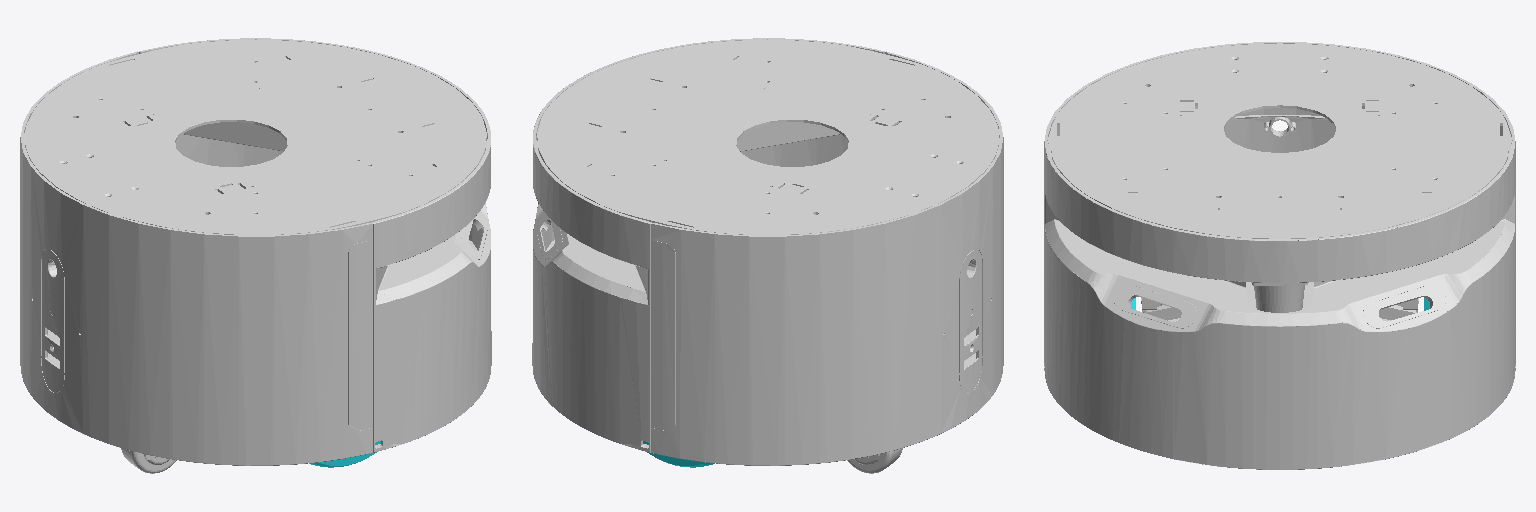
robot.urdf — Base 26.05.06:
<?xml version="1.0" encoding="utf-8"?>
<!-- This URDF was automatically created by SolidWorks to URDF Exporter! Originally created by Stephen Brawner (brawner@gmail.com) 
     Commit Version: 1.6.0-4-g7f85cfe  Build Version: 1.6.7995.38578
     For more information, please see http://wiki.ros.org/sw_urdf_exporter -->
<robot
  name="Base 26.05.06">
  <link
    name="base_link">
    <inertial>
      <origin
        xyz="0.0139877464492624 -5.68244441146032E-05 -0.124578208571542"
        rpy="0 0 0" />
      <mass
        value="3.52850301341702" />
      <inertia
        ixx="0.0829124179160909"
        ixy="6.52576053503441E-06"
        ixz="0.000467807221413584"
        iyy="0.0400047585590855"
        iyz="-5.94413923106993E-06"
        izz="0.098624358497588" />
    </inertial>
    <visual>
      <origin
        xyz="0 0 0"
        rpy="0 0 0" />
      <geometry>
        <mesh
          filename="package://Base 26.05.06/meshes/base_link.STL" />
      </geometry>
      <material
        name="">
        <color
          rgba="0.894117647058823 0.894117647058823 0.894117647058823 1" />
      </material>
    </visual>
    <collision>
      <origin
        xyz="0 0 0"
        rpy="0 0 0" />
      <geometry>
        <mesh
          filename="package://Base 26.05.06/meshes/base_link.STL" />
      </geometry>
    </collision>
  </link>
  <link
    name="right_drive_wheel_link">
    <inertial>
      <origin
        xyz="2.91165459323788E-11 -6.43526715232018E-07 0.0369779577265139"
        rpy="0 0 0" />
      <mass
        value="1.14125095338992" />
      <inertia
        ixx="0.00208401824386845"
        ixy="-1.79853323308109E-13"
        ixz="-1.90807139016711E-12"
        iyy="0.00208405095959488"
        iyz="5.27813516021113E-07"
        izz="0.00352927857061764" />
    </inertial>
    <visual>
      <origin
        xyz="0 0 0"
        rpy="0 0 0" />
      <geometry>
        <mesh
          filename="package://Base 26.05.06/meshes/right_drive_wheel_link.STL" />
      </geometry>
      <material
        name="">
        <color
          rgba="0.188235294117647 0.866666666666667 0.917647058823529 1" />
      </material>
    </visual>
    <collision>
      <origin
        xyz="0 0 0"
        rpy="0 0 0" />
      <geometry>
        <mesh
          filename="package://Base 26.05.06/meshes/right_drive_wheel_link.STL" />
      </geometry>
    </collision>
  </link>
  <joint
    name="right_drive_wheel_joint"
    type="continuous">
    <origin
      xyz="-0.00217824370780602 -0.218924944717817 -0.224330452201286"
      rpy="-1.5707963267949 0 0" />
    <parent
      link="base_link" />
    <child
      link="right_drive_wheel_link" />
    <axis
      xyz="0 0.000125537276711018 0.999999992120196" />
  </joint>
  <link
    name="left_drive_wheel_link">
    <inertial>
      <origin
        xyz="-3.18491113710862E-11 -6.43526715214671E-07 -0.0369779577265139"
        rpy="0 0 0" />
      <mass
        value="1.14125095338992" />
      <inertia
        ixx="0.00208401824386845"
        ixy="1.96732400865809E-13"
        ixz="-2.08714142198925E-12"
        iyy="0.00208405095959488"
        iyz="-5.27813516020045E-07"
        izz="0.00352927857061764" />
    </inertial>
    <visual>
      <origin
        xyz="0 0 0"
        rpy="0 0 0" />
      <geometry>
        <mesh
          filename="package://Base 26.05.06/meshes/left_drive_wheel_link.STL" />
      </geometry>
      <material
        name="">
        <color
          rgba="0.188235294117647 0.866666666666667 0.917647058823529 1" />
      </material>
    </visual>
    <collision>
      <origin
        xyz="0 0 0"
        rpy="0 0 0" />
      <geometry>
        <mesh
          filename="package://Base 26.05.06/meshes/left_drive_wheel_link.STL" />
      </geometry>
    </collision>
  </link>
  <joint
    name="left_drive_wheel_joint"
    type="continuous">
    <origin
      xyz="-0.00217793050105813 0.218879130112312 -0.224330452201204"
      rpy="-1.5707963267949 0 0" />
    <parent
      link="base_link" />
    <child
      link="left_drive_wheel_link" />
    <axis
      xyz="0 0.000125537276710988 -0.999999992120196" />
  </joint>
  <link
    name="fr_caster_link">
    <inertial>
      <origin
        xyz="-0.0210296737391897 2.66276711600594E-05 -0.0404565446191801"
        rpy="0 0 0" />
      <mass
        value="0.174999250427368" />
      <inertia
        ixx="8.59598402931729E-05"
        ixy="1.30108354990252E-07"
        ixz="-7.86718942953962E-06"
        iyy="9.65979989897865E-05"
        iyz="2.17811240261892E-07"
        izz="7.64688653952788E-05" />
    </inertial>
    <visual>
      <origin
        xyz="0 0 0"
        rpy="0 0 0" />
      <geometry>
        <mesh
          filename="package://Base 26.05.06/meshes/fr_caster_link.STL" />
      </geometry>
      <material
        name="">
        <color
          rgba="0.894117647058823 0.894117647058823 0.894117647058823 1" />
      </material>
    </visual>
    <collision>
      <origin
        xyz="0 0 0"
        rpy="0 0 0" />
      <geometry>
        <mesh
          filename="package://Base 26.05.06/meshes/fr_caster_link.STL" />
      </geometry>
    </collision>
  </link>
  <joint
    name="fr_caster_joint"
    type="continuous">
    <origin
      xyz="0.149800623917563 -0.0925229073028034 -0.2186"
      rpy="0 0 0" />
    <parent
      link="base_link" />
    <child
      link="fr_caster_link" />
    <axis
      xyz="0 0 1" />
  </joint>
  <link
    name="fr_wheel_link">
    <inertial>
      <origin
        xyz="-3.97836671182927E-05 -9.02813330067032E-06 -0.00149999999415462"
        rpy="0 0 0" />
      <mass
        value="0.109320570218184" />
      <inertia
        ixx="3.6860500337048E-05"
        ixy="-9.46425018050332E-09"
        ixz="1.95534990593222E-11"
        iyy="3.69224586520118E-05"
        iyz="3.31849367825639E-12"
        izz="4.97629238797921E-05" />
    </inertial>
    <visual>
      <origin
        xyz="0 0 0"
        rpy="0 0 0" />
      <geometry>
        <mesh
          filename="package://Base 26.05.06/meshes/fr_wheel_link.STL" />
      </geometry>
      <material
        name="">
        <color
          rgba="0.894117647058823 0.894117647058823 0.894117647058823 1" />
      </material>
    </visual>
    <collision>
      <origin
        xyz="0 0 0"
        rpy="0 0 0" />
      <geometry>
        <mesh
          filename="package://Base 26.05.06/meshes/fr_wheel_link.STL" />
      </geometry>
    </collision>
  </link>
  <joint
    name="fr_wheel_joint"
    type="continuous">
    <origin
      xyz="-0.0314999999999982 0 -0.058"
      rpy="-1.5707963267949 0 0" />
    <parent
      link="fr_caster_link" />
    <child
      link="fr_wheel_link" />
    <axis
      xyz="0 0 1" />
  </joint>
  <link
    name="fl_caster_link">
    <inertial>
      <origin
        xyz="-0.0210296737391898 2.66276711600177E-05 -0.0404565446191801"
        rpy="0 0 0" />
      <mass
        value="0.174999250427368" />
      <inertia
        ixx="8.5959840293173E-05"
        ixy="1.30108354990273E-07"
        ixz="-7.86718942953969E-06"
        iyy="9.65979989897866E-05"
        iyz="2.17811240261953E-07"
        izz="7.64688653952788E-05" />
    </inertial>
    <visual>
      <origin
        xyz="0 0 0"
        rpy="0 0 0" />
      <geometry>
        <mesh
          filename="package://Base 26.05.06/meshes/fl_caster_link.STL" />
      </geometry>
      <material
        name="">
        <color
          rgba="0.894117647058823 0.894117647058823 0.894117647058823 1" />
      </material>
    </visual>
    <collision>
      <origin
        xyz="0 0 0"
        rpy="0 0 0" />
      <geometry>
        <mesh
          filename="package://Base 26.05.06/meshes/fl_caster_link.STL" />
      </geometry>
    </collision>
  </link>
  <joint
    name="fl_caster_joint"
    type="continuous">
    <origin
      xyz="0.149800623917537 0.0924770926972476 -0.2186"
      rpy="0 0 0" />
    <parent
      link="base_link" />
    <child
      link="fl_caster_link" />
    <axis
      xyz="0 0 1" />
  </joint>
  <link
    name="fl_wheel_link">
    <inertial>
      <origin
        xyz="-3.97836670919943E-05 -9.02813330071195E-06 0.00150000000579448"
        rpy="0 0 0" />
      <mass
        value="0.109320570218184" />
      <inertia
        ixx="3.6860500337048E-05"
        ixy="-9.46425018050186E-09"
        ixz="1.95534990570709E-11"
        iyy="3.69224586520118E-05"
        iyz="3.31849368290766E-12"
        izz="4.97629238797921E-05" />
    </inertial>
    <visual>
      <origin
        xyz="0 0 0"
        rpy="0 0 0" />
      <geometry>
        <mesh
          filename="package://Base 26.05.06/meshes/fl_wheel_link.STL" />
      </geometry>
      <material
        name="">
        <color
          rgba="0.894117647058823 0.894117647058823 0.894117647058823 1" />
      </material>
    </visual>
    <collision>
      <origin
        xyz="0 0 0"
        rpy="0 0 0" />
      <geometry>
        <mesh
          filename="package://Base 26.05.06/meshes/fl_wheel_link.STL" />
      </geometry>
    </collision>
  </link>
  <joint
    name="fl_wheel_joint"
    type="continuous">
    <origin
      xyz="-0.0314999999999983 0 -0.058"
      rpy="-1.5707963267949 0 0" />
    <parent
      link="fl_caster_link" />
    <child
      link="fl_wheel_link" />
    <axis
      xyz="0 0 1" />
  </joint>
  <link
    name="br_caster_link">
    <inertial>
      <origin
        xyz="-0.0210296737391897 2.66276711600455E-05 -0.0404565446191801"
        rpy="0 0 0" />
      <mass
        value="0.174999250427368" />
      <inertia
        ixx="8.59598402931729E-05"
        ixy="1.30108354990229E-07"
        ixz="-7.86718942953967E-06"
        iyy="9.65979989897867E-05"
        iyz="2.17811240261956E-07"
        izz="7.64688653952788E-05" />
    </inertial>
    <visual>
      <origin
        xyz="0 0 0"
        rpy="0 0 0" />
      <geometry>
        <mesh
          filename="package://Base 26.05.06/meshes/br_caster_link.STL" />
      </geometry>
      <material
        name="">
        <color
          rgba="0.894117647058823 0.894117647058823 0.894117647058823 1" />
      </material>
    </visual>
    <collision>
      <origin
        xyz="0 0 0"
        rpy="0 0 0" />
      <geometry>
        <mesh
          filename="package://Base 26.05.06/meshes/br_caster_link.STL" />
      </geometry>
    </collision>
  </link>
  <joint
    name="br_caster_joint"
    type="continuous">
    <origin
      xyz="-0.152199376082463 -0.0940229073027524 -0.2186"
      rpy="0 0 0" />
    <parent
      link="base_link" />
    <child
      link="br_caster_link" />
    <axis
      xyz="0 0 1" />
  </joint>
  <link
    name="br_wheel_link">
    <inertial>
      <origin
        xyz="-3.97836671182927E-05 -9.02813330064256E-06 5.79430947666992E-12"
        rpy="0 0 0" />
      <mass
        value="0.109320570218184" />
      <inertia
        ixx="3.6860500337048E-05"
        ixy="-9.46425018050304E-09"
        ixz="1.95534990548099E-11"
        iyy="3.69224586520118E-05"
        iyz="3.31849367915526E-12"
        izz="4.97629238797921E-05" />
    </inertial>
    <visual>
      <origin
        xyz="0 0 0"
        rpy="0 0 0" />
      <geometry>
        <mesh
          filename="package://Base 26.05.06/meshes/br_wheel_link.STL" />
      </geometry>
      <material
        name="">
        <color
          rgba="0.894117647058823 0.894117647058823 0.894117647058823 1" />
      </material>
    </visual>
    <collision>
      <origin
        xyz="0 0 0"
        rpy="0 0 0" />
      <geometry>
        <mesh
          filename="package://Base 26.05.06/meshes/br_wheel_link.STL" />
      </geometry>
    </collision>
  </link>
  <joint
    name="br_wheel_joint"
    type="continuous">
    <origin
      xyz="-0.0314999999999983 0 -0.058"
      rpy="-1.5707963267949 0 0" />
    <parent
      link="br_caster_link" />
    <child
      link="br_wheel_link" />
    <axis
      xyz="0 0 1" />
  </joint>
  <link
    name="bl_caster_link">
    <inertial>
      <origin
        xyz="-0.0210296737391897 2.66276711600594E-05 -0.0404565446191801"
        rpy="0 0 0" />
      <mass
        value="0.174999250427368" />
      <inertia
        ixx="8.59598402931728E-05"
        ixy="1.30108354990242E-07"
        ixz="-7.86718942953964E-06"
        iyy="9.65979989897865E-05"
        iyz="2.17811240261937E-07"
        izz="7.64688653952788E-05" />
    </inertial>
    <visual>
      <origin
        xyz="0 0 0"
        rpy="0 0 0" />
      <geometry>
        <mesh
          filename="package://Base 26.05.06/meshes/bl_caster_link.STL" />
      </geometry>
      <material
        name="">
        <color
          rgba="0.894117647058823 0.894117647058823 0.894117647058823 1" />
      </material>
    </visual>
    <collision>
      <origin
        xyz="0 0 0"
        rpy="0 0 0" />
      <geometry>
        <mesh
          filename="package://Base 26.05.06/meshes/bl_caster_link.STL" />
      </geometry>
    </collision>
  </link>
  <joint
    name="bl_caster_joint"
    type="continuous">
    <origin
      xyz="-0.152199376082463 0.0939770926972477 -0.2186"
      rpy="0 0 0" />
    <parent
      link="base_link" />
    <child
      link="bl_caster_link" />
    <axis
      xyz="0 0 1" />
  </joint>
  <link
    name="bl_wheel_link">
    <inertial>
      <origin
        xyz="-3.9783667118265E-05 -9.02813330071195E-06 5.79435111003335E-12"
        rpy="0 0 0" />
      <mass
        value="0.109320570218184" />
      <inertia
        ixx="3.6860500337048E-05"
        ixy="-9.46425018050137E-09"
        ixz="1.95534990611842E-11"
        iyy="3.69224586520118E-05"
        iyz="3.3184936794079E-12"
        izz="4.97629238797921E-05" />
    </inertial>
    <visual>
      <origin
        xyz="0 0 0"
        rpy="0 0 0" />
      <geometry>
        <mesh
          filename="package://Base 26.05.06/meshes/bl_wheel_link.STL" />
      </geometry>
      <material
        name="">
        <color
          rgba="0.894117647058823 0.894117647058823 0.894117647058823 1" />
      </material>
    </visual>
    <collision>
      <origin
        xyz="0 0 0"
        rpy="0 0 0" />
      <geometry>
        <mesh
          filename="package://Base 26.05.06/meshes/bl_wheel_link.STL" />
      </geometry>
    </collision>
  </link>
  <joint
    name="bl_wheel_joint"
    type="continuous">
    <origin
      xyz="-0.0314999999999983 0 -0.058"
      rpy="-1.5707963267949 0 0" />
    <parent
      link="bl_caster_link" />
    <child
      link="bl_wheel_link" />
    <axis
      xyz="0 0 1" />
  </joint>
</robot>

--- What the picture shows (computed from the rendered views, not written in the file) ---
3 views of the same robot in one strip: view 1: azimuth 30°, elevation 25°; view 2: azimuth 150°, elevation 25°; view 3: azimuth 270°, elevation 25° (orthographic).
Model Base 26.05.06 with 11 links and 10 joints (10 continuous), rooted at base_link, posed all joints at 0.
Links seen in each view (by area): view 1: base_link, br_wheel_link; view 2: base_link, bl_wheel_link; view 3: base_link.
Boxes of the visible links, x1,y1,x2,y2 form: base_link: [20, 38, 491, 465]; br_wheel_link: [121, 448, 176, 473]; base_link: [532, 38, 1003, 465]; bl_wheel_link: [847, 448, 902, 473]; base_link: [1044, 42, 1515, 469].
Size in the robot's own frame: 0.5002 by 0.5 by 0.3093 metres.
11 mesh visuals loaded from 11 distinct referenced files (11 binary STL).
